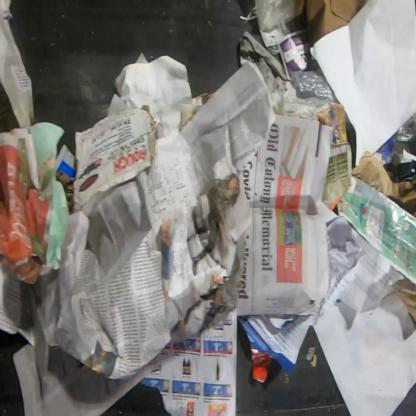cardboard: (72, 103, 157, 212), (350, 149, 415, 219), (392, 274, 415, 326)
rigid_plastic: (383, 159, 416, 184)
soft_plastic: (290, 67, 341, 104), (251, 0, 297, 38), (394, 110, 415, 144)
